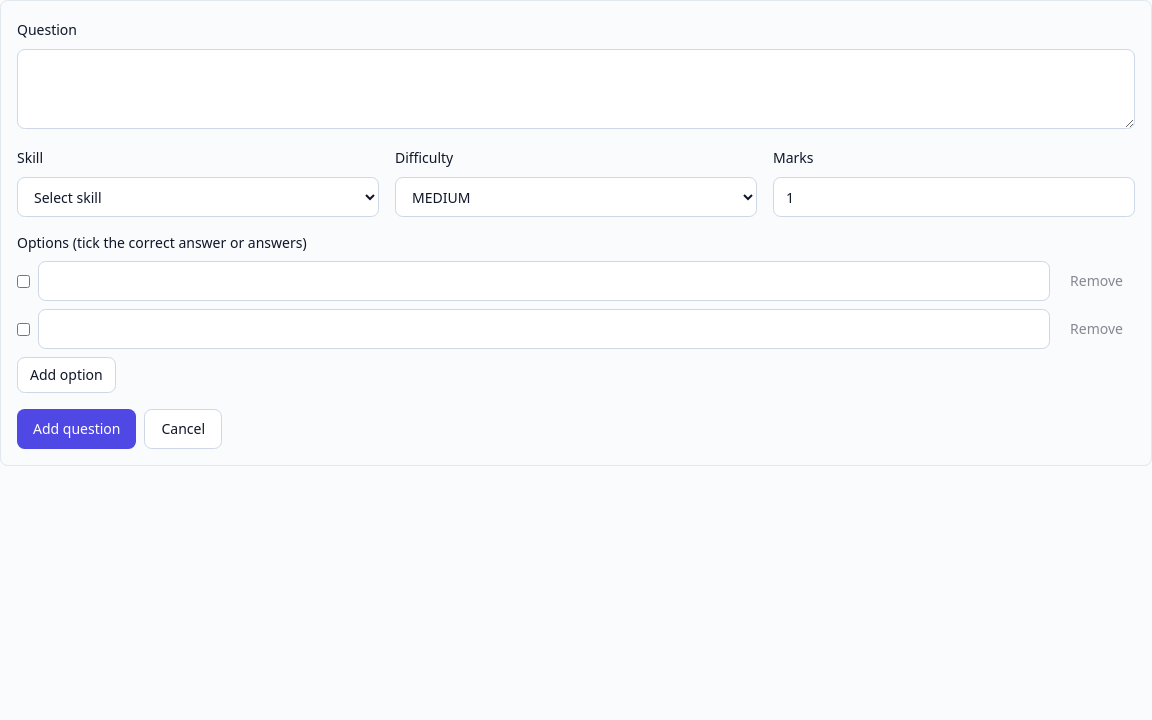
it: QuestionForm validation › requires at least 2 options with text
The image size is (1152, 720).
Type "What is 2+2?" into the text box labelled "Question". click: (576, 89)
box: [17,49,1135,129]
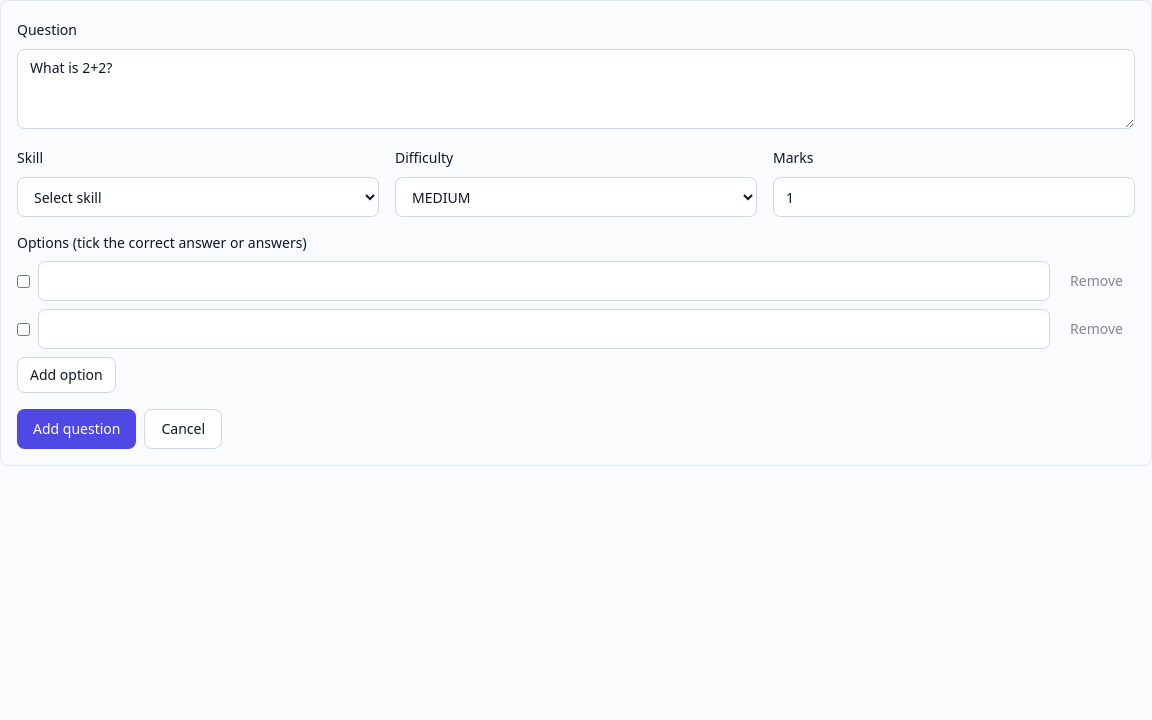
Select "Logic" in the dropdown labelled "Skill". click: (198, 197)
box: [17,177,379,217]
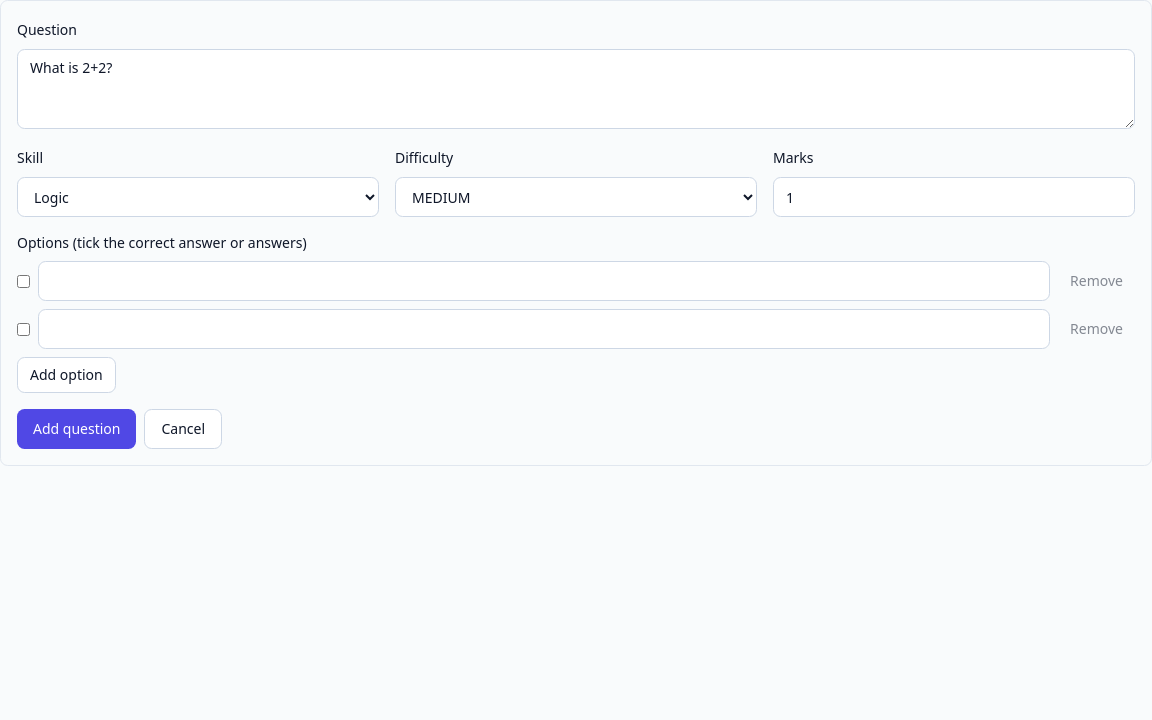
Type "4" into the field named "Option 1 text". click: (544, 281)
box: [38,261,1050,301]
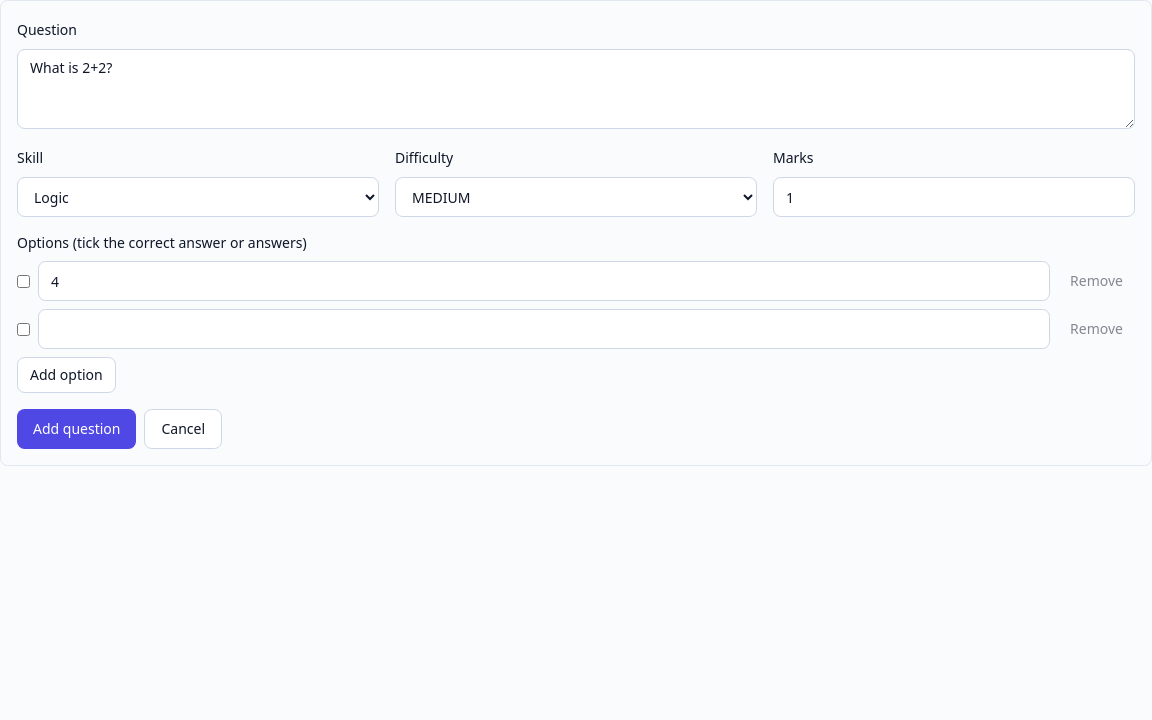
Click the checkbox named "Option 1 is correct". click: (24, 281)
box: [17,274,30,288]
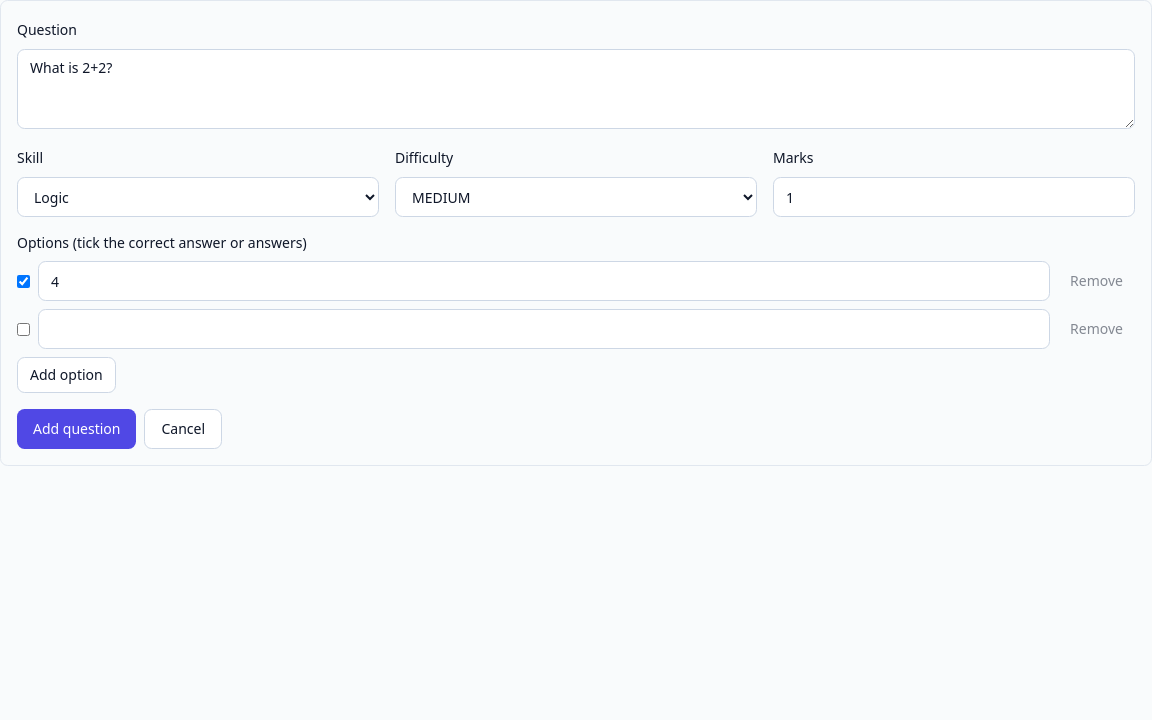
Click the button "Add question". click: (77, 429)
box: [17,409,136,449]
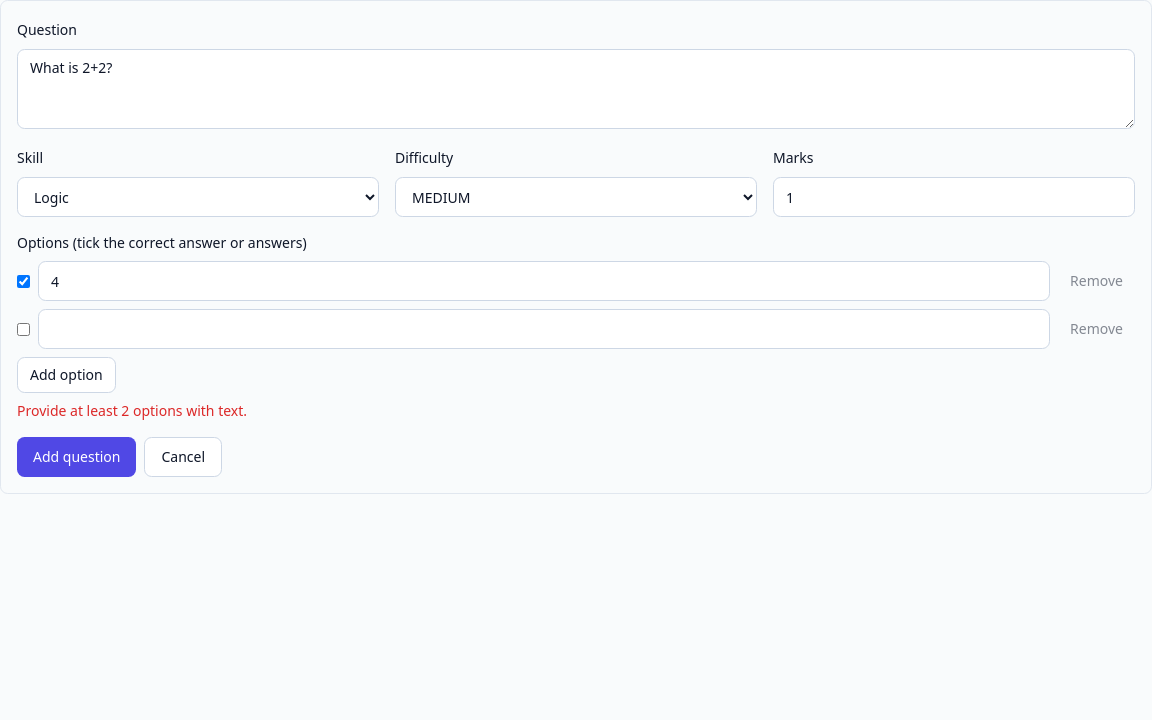
Check: the text "Provide at least 2 options with text." is shown, box [17,401,247,420]
